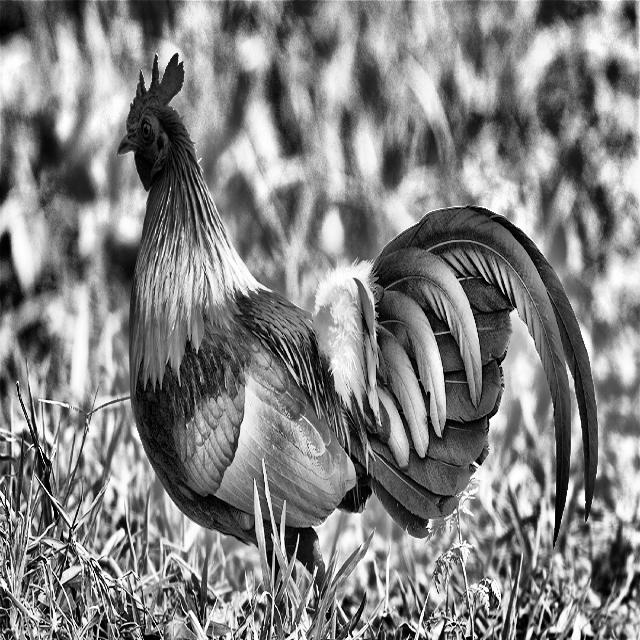Healthy: (92, 37, 609, 600)
